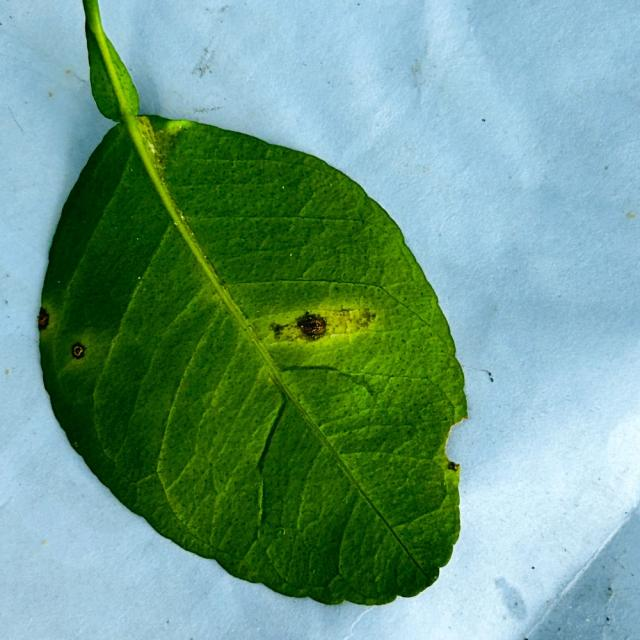Anthracnose: (51, 325, 106, 382), (145, 123, 187, 196), (272, 314, 338, 353), (443, 405, 472, 470), (269, 322, 285, 339), (338, 309, 351, 317)
Lemon: (33, 0, 468, 609)
